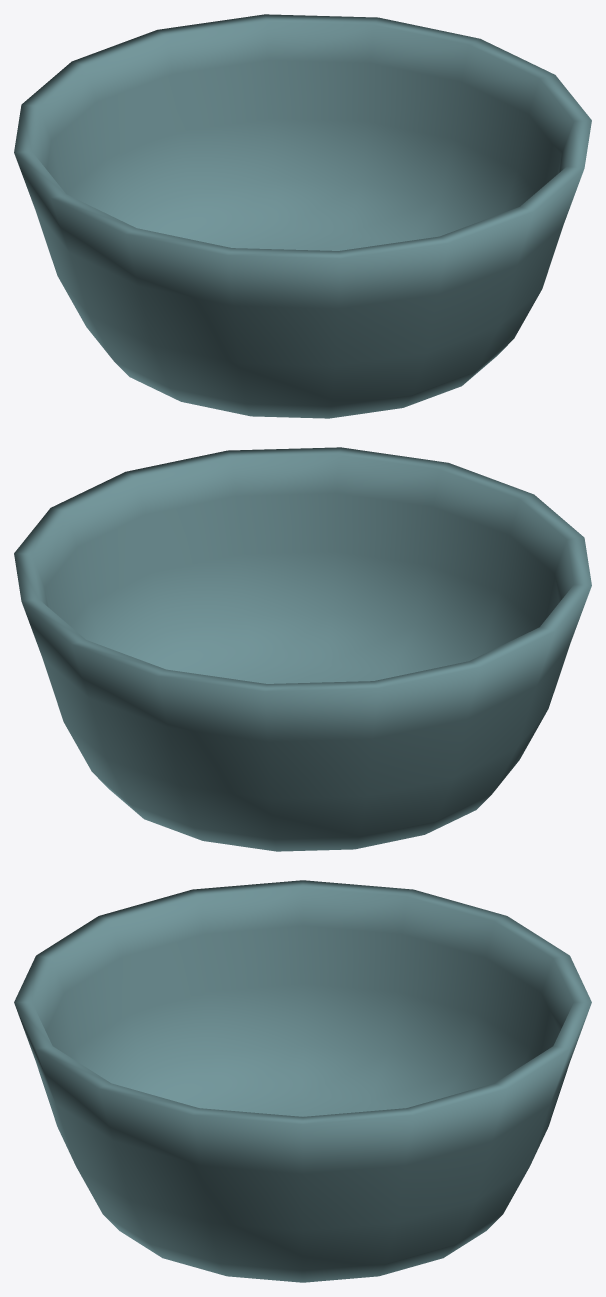
File: bowl.glb
3 renders of one model, top to bottom at view 1: azimuth 30°, elevation 25°; view 2: azimuth 150°, elevation 25°; view 3: azimuth 270°, elevation 25°, orthographic.
Visible parts, largest first — view 1: bowl; view 2: bowl; view 3: bowl.
Boxes of the visible parts, x1,y1,x2,y2 form: bowl: (14,14,591,418); bowl: (14,447,591,851); bowl: (14,880,591,1282).
Bounding box in the file's own units: 0.16 × 0.06 × 0.16.
